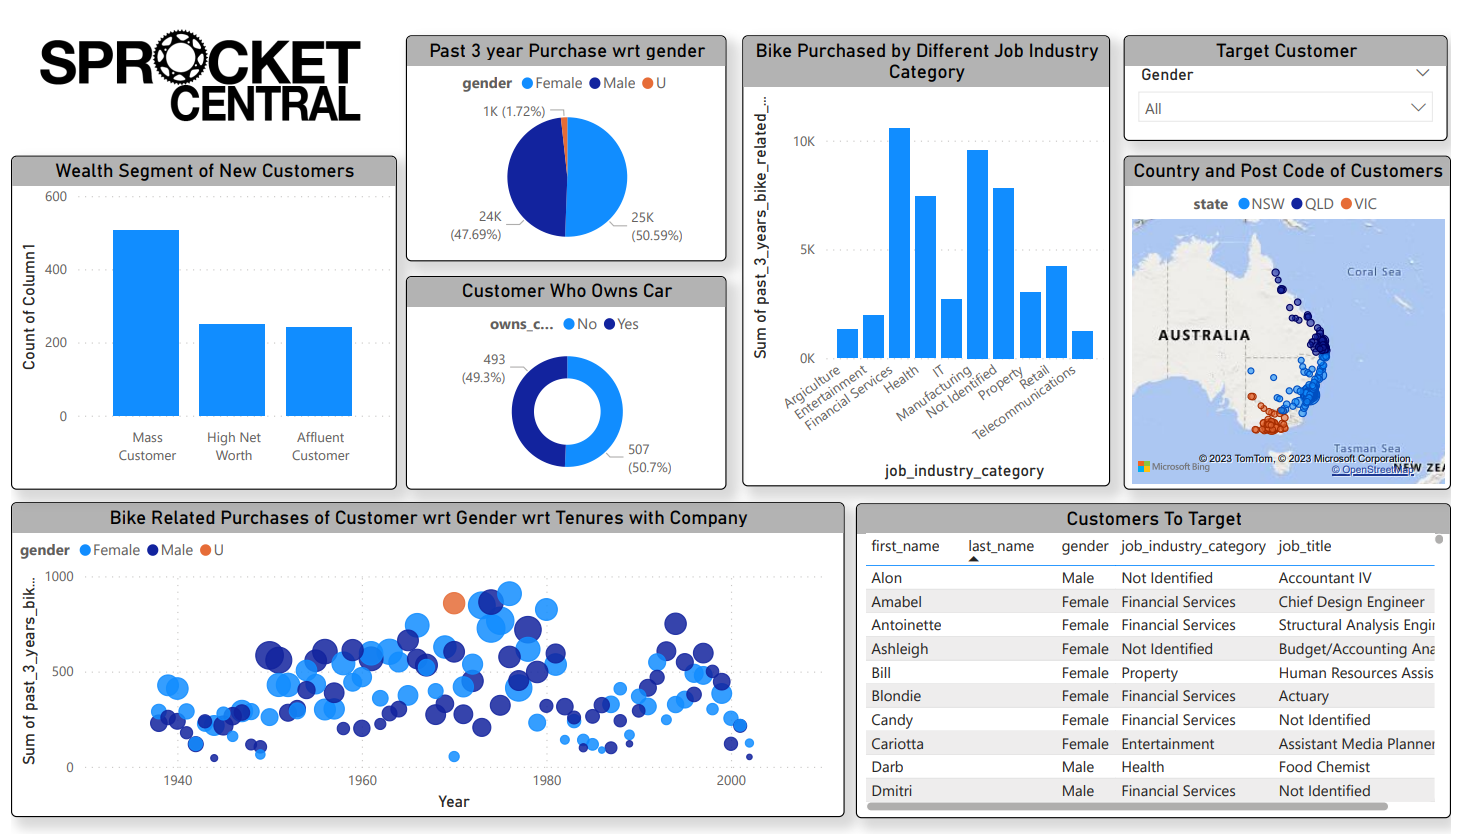

This screenshot's page, from the dashboard's own definition file:
{"tool":"powerbi","page":{"name":"New Customer Analysis","canvas":[1280,720],"ordinal":2},"visuals":[{"type":"scatterChart","title":"Bike Related Purchases of Customer wrt Gender wrt Tenures with Company","fields":{"X":["new_customer.DOB.Variation.Date Hierarchy.Year"],"Y":["new_customer.past_3_years_bike_related_purchases"],"Series":["new_customer.gender"],"Size":["new_customer.tenure"]},"box":[0,425.4,741,279.6],"z":0},{"type":"tableEx","title":"Customers To Target","fields":{"Values":["new_customer.first_name","new_customer.last_name","new_customer.gender","new_customer.job_industry_category","new_customer.job_title"]},"box":[751.4,425.7,528.6,280],"z":1000},{"type":"columnChart","title":"Wealth Segment of New Customers","fields":{"Y":["new_customer.Column1"],"Category":["new_customer.wealth_segment"]},"box":[0,117.1,342.9,297.1],"z":2000},{"type":"map","title":"Country and Post Code of Customers","fields":{"Category":["new_customer.country","new_customer.postcode"],"Series":["new_customer.state"],"Size":["new_customer.property_valuation"]},"box":[988.6,117.1,291.4,297.1],"z":3000},{"type":"pieChart","title":"Past 3 year Purchase wrt gender","fields":{"Category":["new_customer.gender"],"Y":["new_customer.past_3_years_bike_related_purchases"]},"box":[351.4,10,284.3,201.4],"z":4000},{"type":"columnChart","title":"Bike Purchased by Different Job Industry Category","fields":{"Category":["new_customer.job_industry_category","new_customer.job_title"],"Y":["new_customer.past_3_years_bike_related_purchases"]},"box":[650,10,327.1,401.4],"z":5000},{"type":"donutChart","title":"Customer Who Owns Car","fields":{"Category":["new_customer.owns_car"],"Y":["new_customer.Column1"]},"box":[351.4,224.3,284.3,190],"z":6000},{"type":"slicer","title":"Target Customer","fields":{"Values":["new_customer.gender","new_customer.state","new_customer.wealth_segment","new_customer.job_industry_category","new_customer.job_title"]},"box":[988.6,10,288.6,94.3],"z":7000},{"type":"image","box":[0,0,343,111],"z":8000}]}

Visuals, with their boxes in screenshot pixels (x1, y1, x2, y2), scaled from the page's 1280x720 canvas onto the 1466x838 screenshot:
"Bike Related Purchases of Customer wrt Gender wrt Tenures with Company" scatterChart: [x1=0, y1=495, x2=849, y2=821]
"Customers To Target" tableEx: [x1=861, y1=495, x2=1465, y2=821]
"Wealth Segment of New Customers" columnChart: [x1=0, y1=136, x2=393, y2=482]
"Country and Post Code of Customers" map: [x1=1132, y1=136, x2=1465, y2=482]
"Past 3 year Purchase wrt gender" pieChart: [x1=402, y1=12, x2=728, y2=246]
"Bike Purchased by Different Job Industry Category" columnChart: [x1=744, y1=12, x2=1119, y2=479]
"Customer Who Owns Car" donutChart: [x1=402, y1=261, x2=728, y2=482]
"Target Customer" slicer: [x1=1132, y1=12, x2=1463, y2=121]
image: [x1=0, y1=0, x2=393, y2=129]
